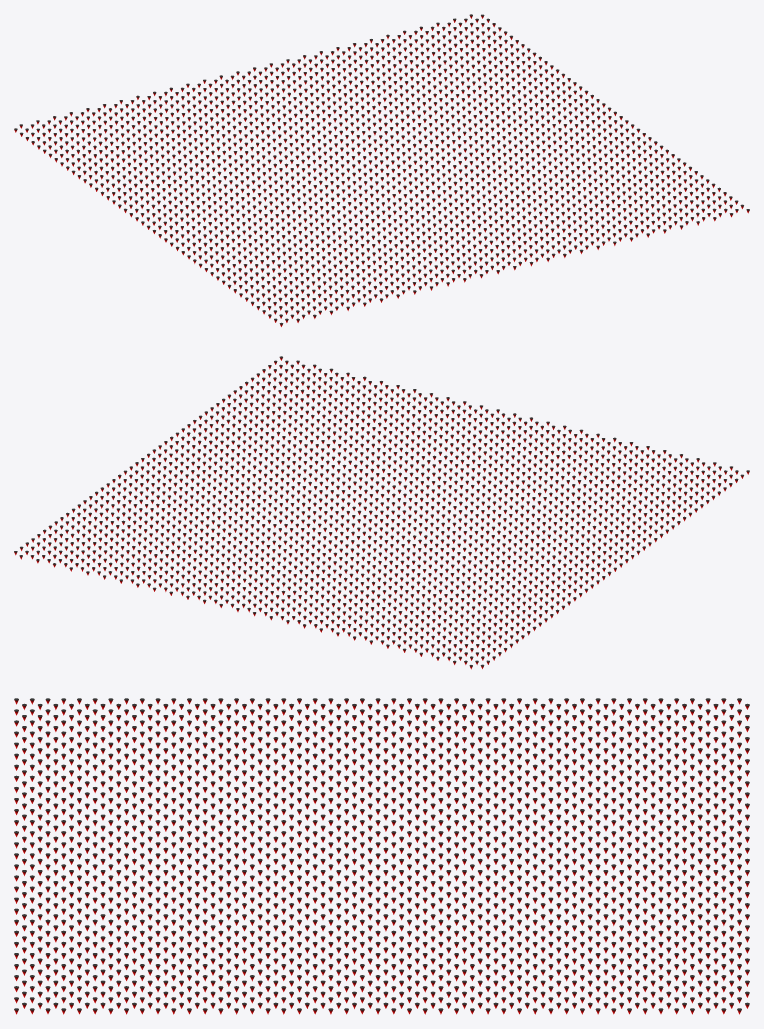
The model's file is otherworld_floor_01_1.glb.
The picture shows the model from 3 angles, top to bottom: view 1: azimuth 30°, elevation 25°; view 2: azimuth 150°, elevation 25°; view 3: azimuth 270°, elevation 25°; orthographic projection. The views are drawn at different scales.
Visible parts, largest first — view 1: otherworld_floor_01_1; view 2: otherworld_floor_01_1; view 3: otherworld_floor_01_1.
Boxes of the visible parts, left/top/right/bottom form: otherworld_floor_01_1: left=14, top=14, right=749, bottom=326; otherworld_floor_01_1: left=14, top=356, right=749, bottom=669; otherworld_floor_01_1: left=14, top=698, right=749, bottom=1014.
Size of the model in its own units: 28.2 by 0.2295 by 28.1.
1 material, 1 textured.
